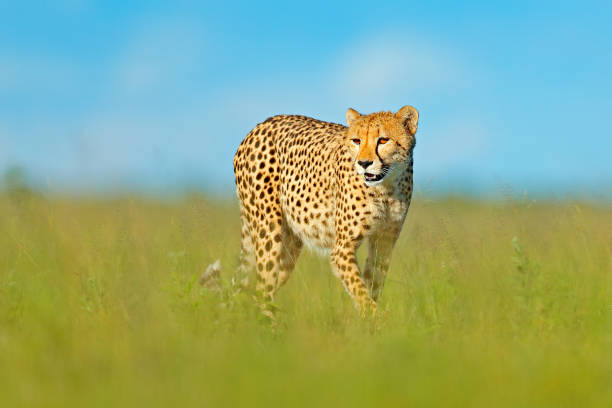cheetah: (341, 93, 428, 187)
